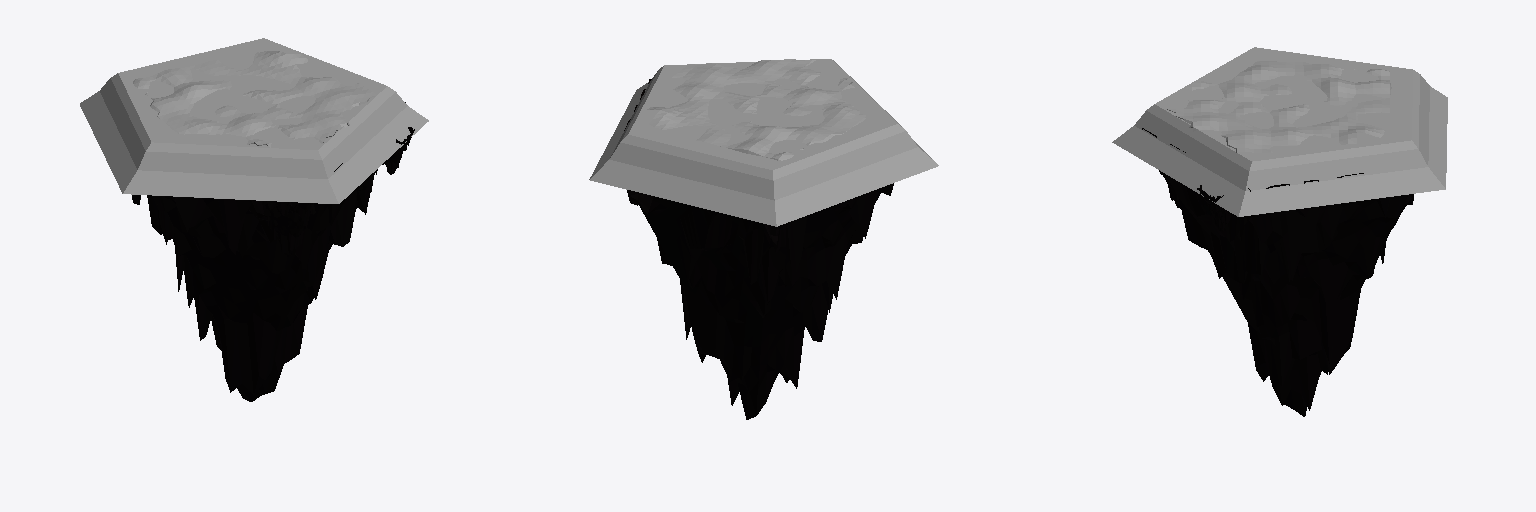
Rendered from Island.obj.
3 views of the same model, side by side, from view 1: azimuth 30°, elevation 25°; view 2: azimuth 150°, elevation 25°; view 3: azimuth 270°, elevation 25° (orthographic).
Visible parts, largest first — view 1: Cone.001; view 2: Cone.001; view 3: Cone.001.
Part boxes in pixels (x1,y1,x2,y2): Cone.001: (80,38,428,401); Cone.001: (589,59,938,419); Cone.001: (1112,47,1447,416).
Size of the model in its own units: 2.5 by 2.46 by 2.38.